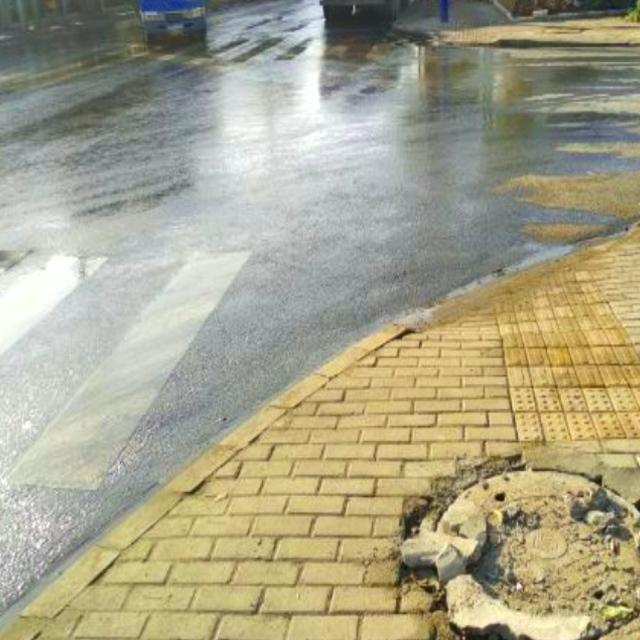circle: (398, 432, 640, 640)
